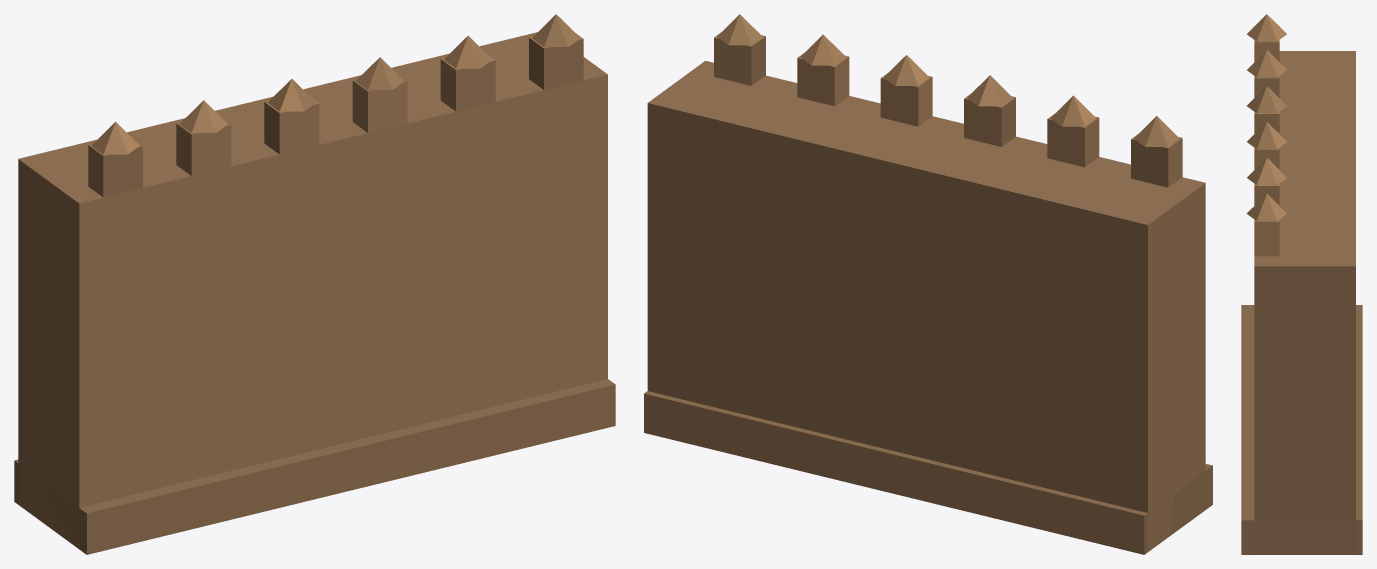
File: walk_sunborn_wall.glb
3 renders of one model, left to right at view 1: azimuth 30°, elevation 25°; view 2: azimuth 150°, elevation 25°; view 3: azimuth 270°, elevation 25°, orthographic. The views are drawn at different scales.
Parts seen in each view (by area): view 1: walk_sunborn_wall; view 2: walk_sunborn_wall; view 3: walk_sunborn_wall.
Boxes of the visible parts, bbox=[...] form: walk_sunborn_wall: bbox=[14, 14, 615, 554]; walk_sunborn_wall: bbox=[644, 14, 1212, 554]; walk_sunborn_wall: bbox=[1241, 14, 1362, 554].
Size of what is drawn, in the model's own units: 8 by 5.95 by 1.9.
Materials: 1 (1 with a texture image).
